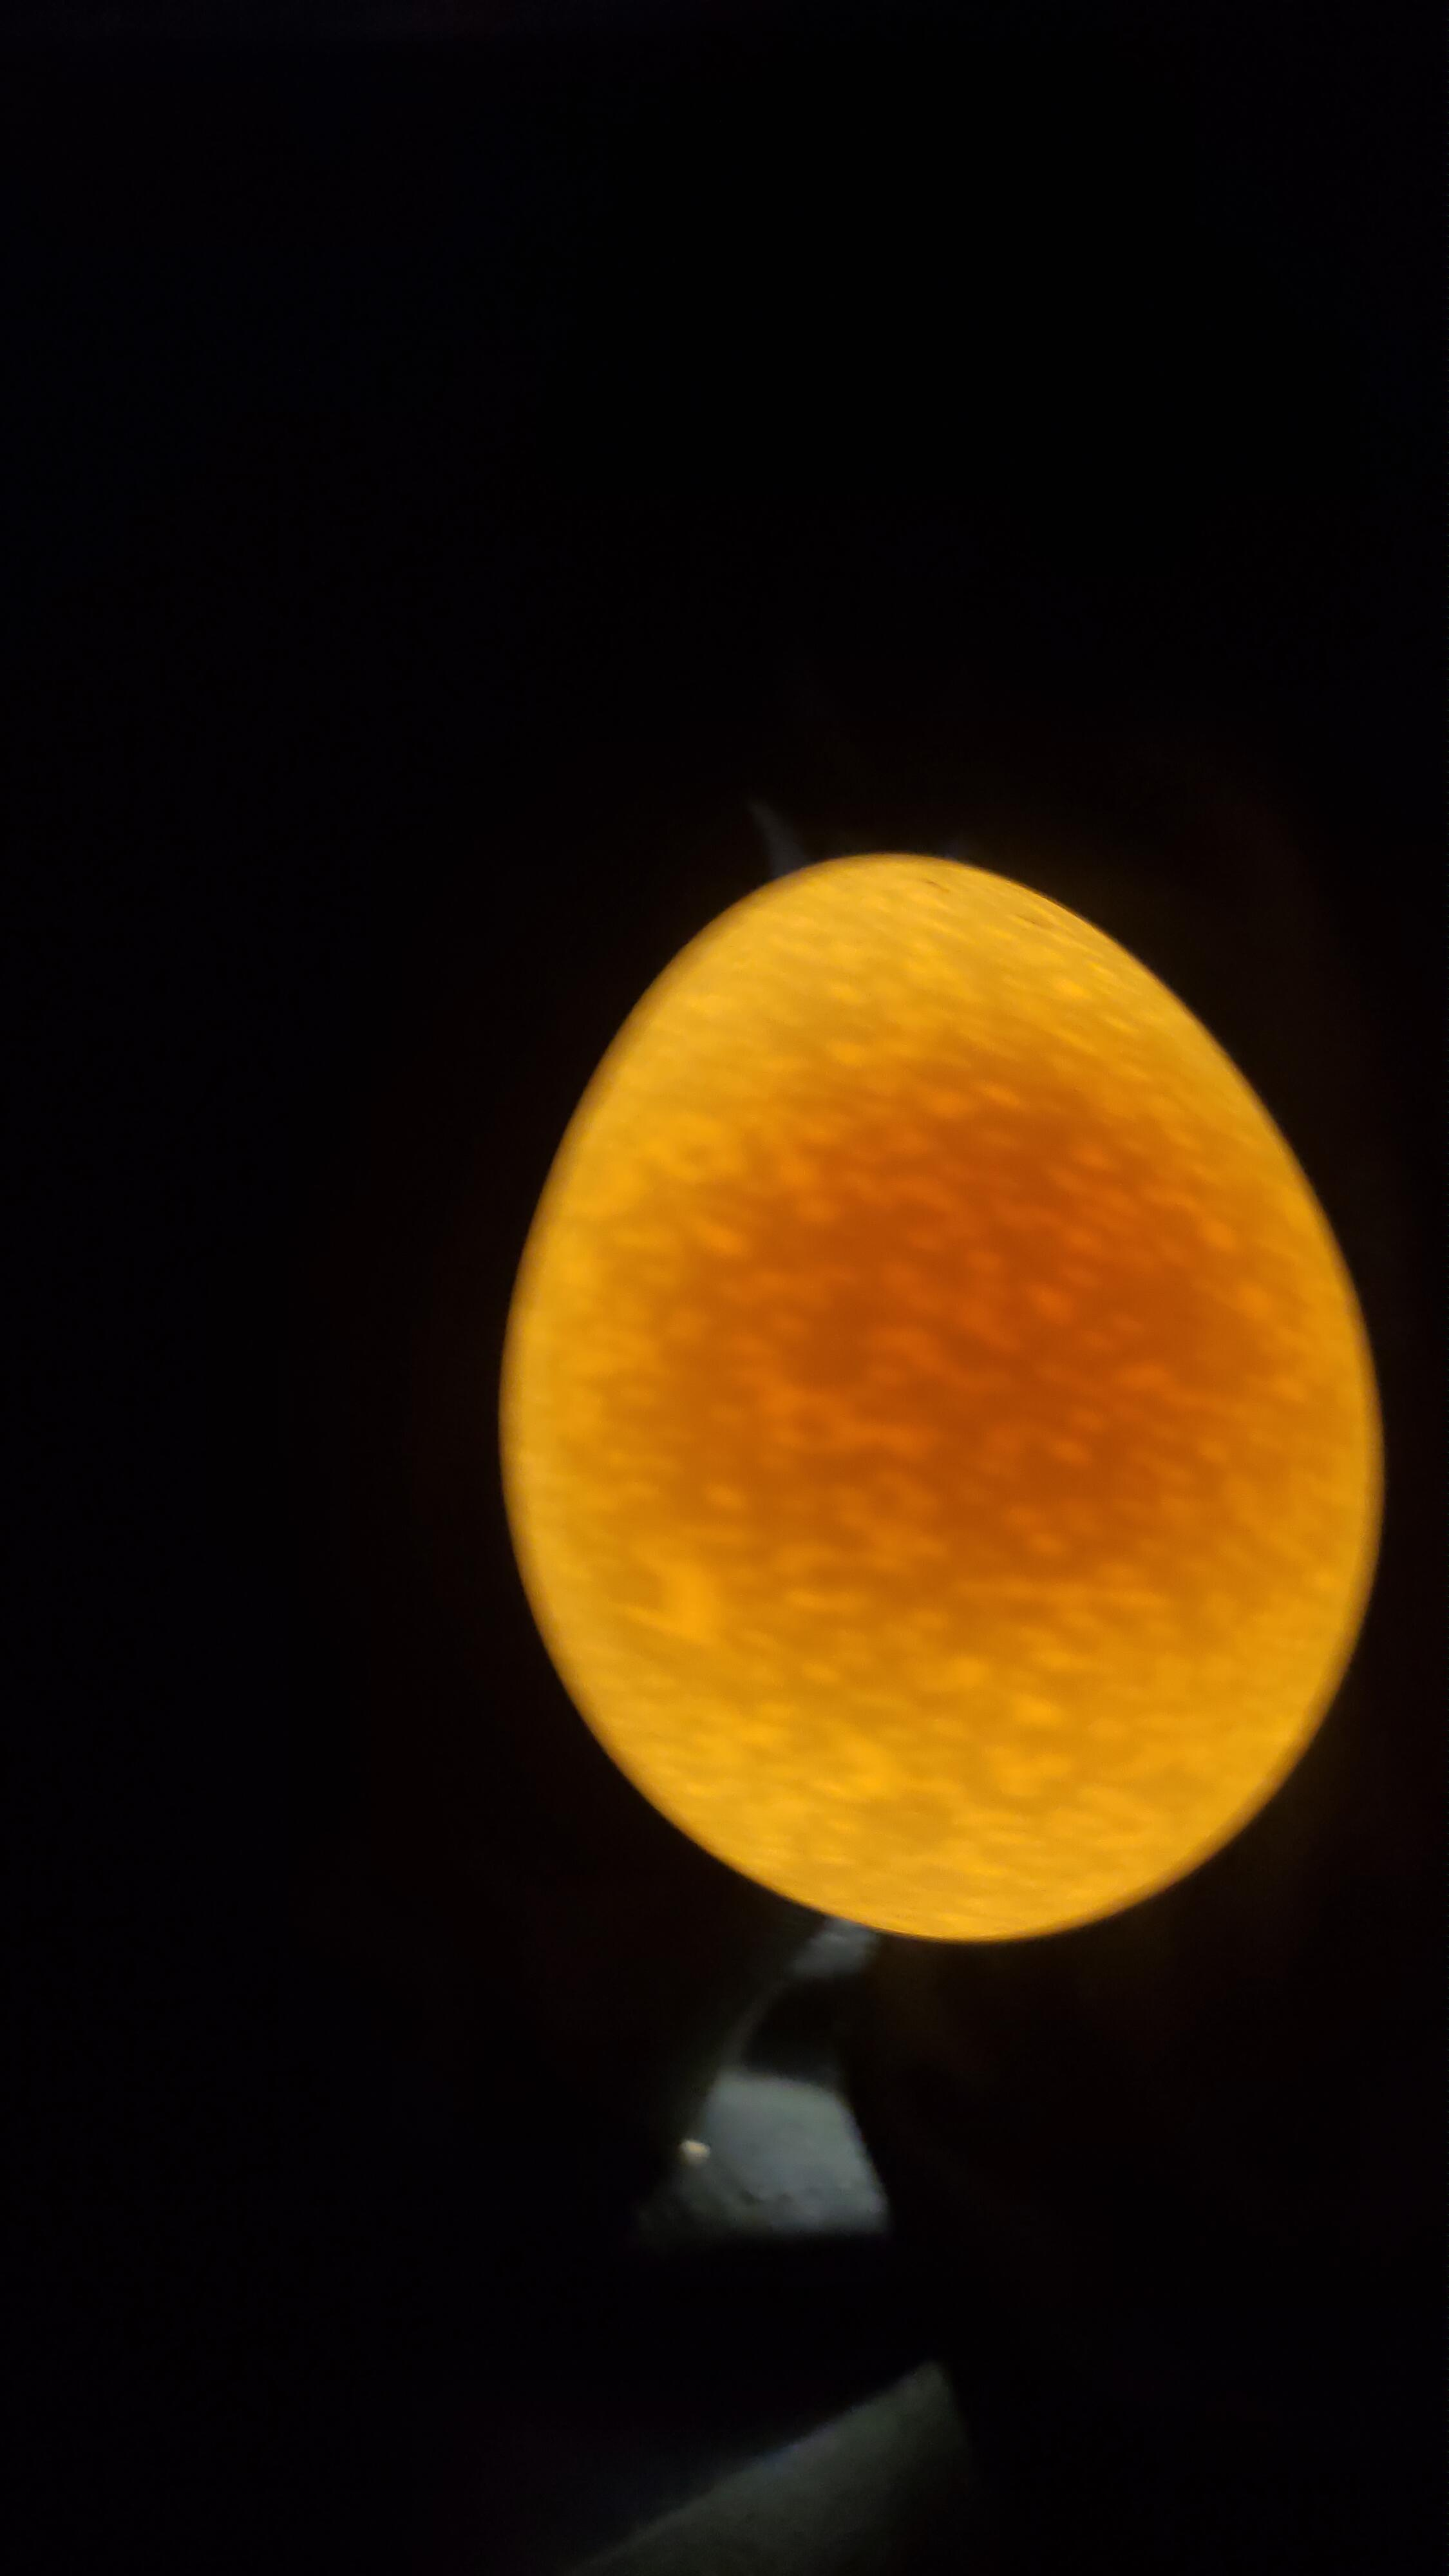A - Good: (456, 817, 1410, 1971)
